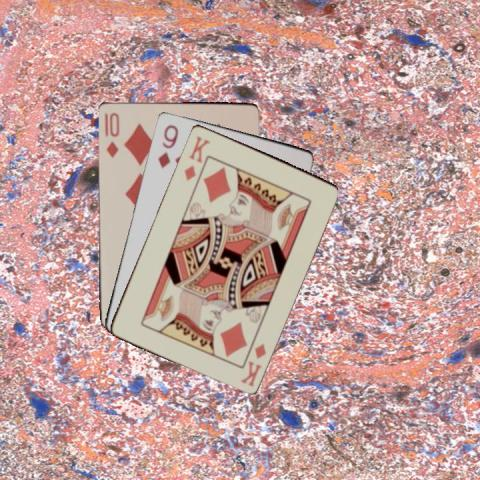10d: (101, 109, 121, 159)
9d: (155, 122, 179, 169)
Kd: (181, 133, 212, 181), (237, 340, 268, 388)
